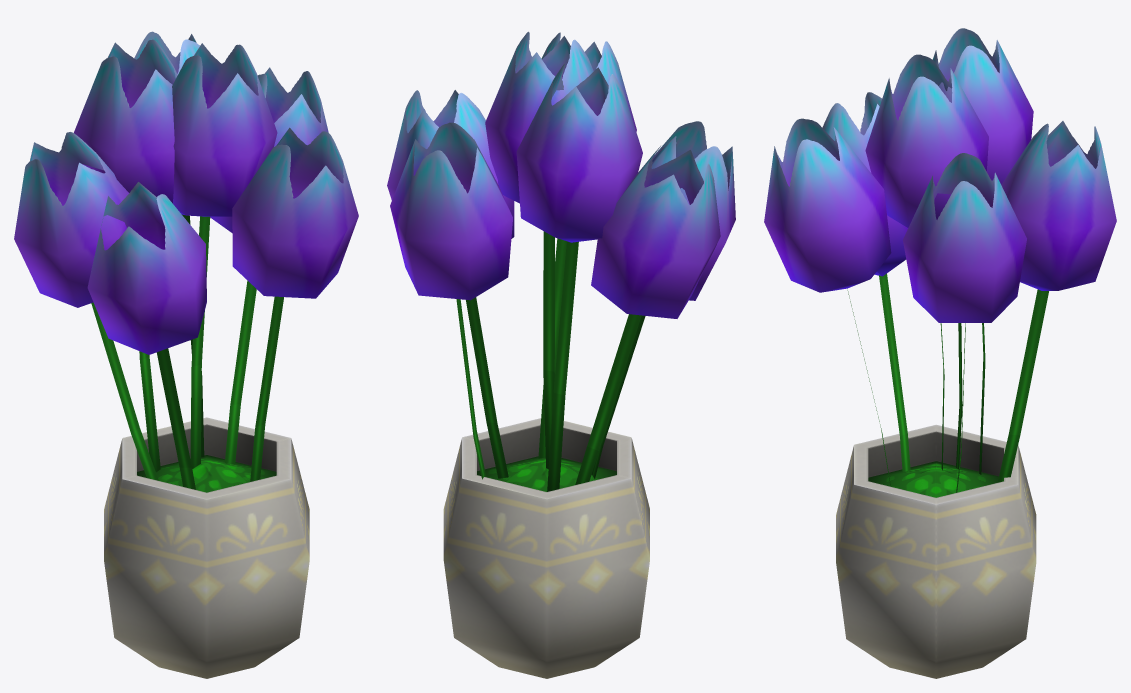
Rendered from TulipPot_03.FBX.
3 renders of one model, left to right at view 1: azimuth 30°, elevation 25°; view 2: azimuth 150°, elevation 25°; view 3: azimuth 270°, elevation 25°, orthographic. The views are drawn at different scales.
Visible parts, largest first — view 1: TulipPot_03; view 2: TulipPot_03; view 3: TulipPot_03.
Part boxes in pixels (x1,y1,x2,y2): TulipPot_03: (14,31,358,678); TulipPot_03: (387,31,735,678); TulipPot_03: (764,28,1116,678).
Bounding box in the file's own units: 0.2619 × 0.5175 × 0.2717.
